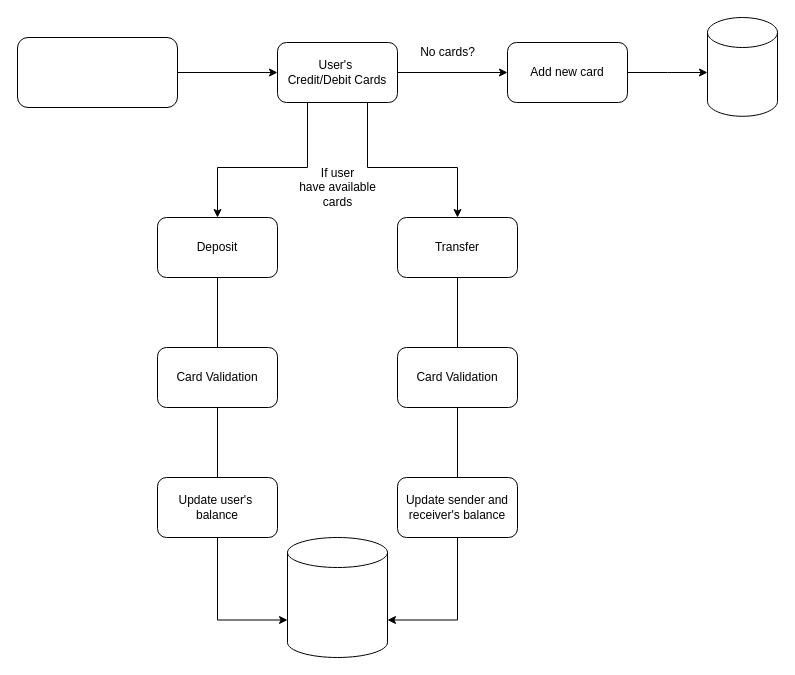
Some shapes in this 795 by 675 pixel diagram are drawn without their labels. Here are the shapes that lost their labels. From the top down, the centre of each, then its label:
At point 97,72: "Authorized User".
At point 742,66: "Cards database".
At point 337,597: "Users Database".
